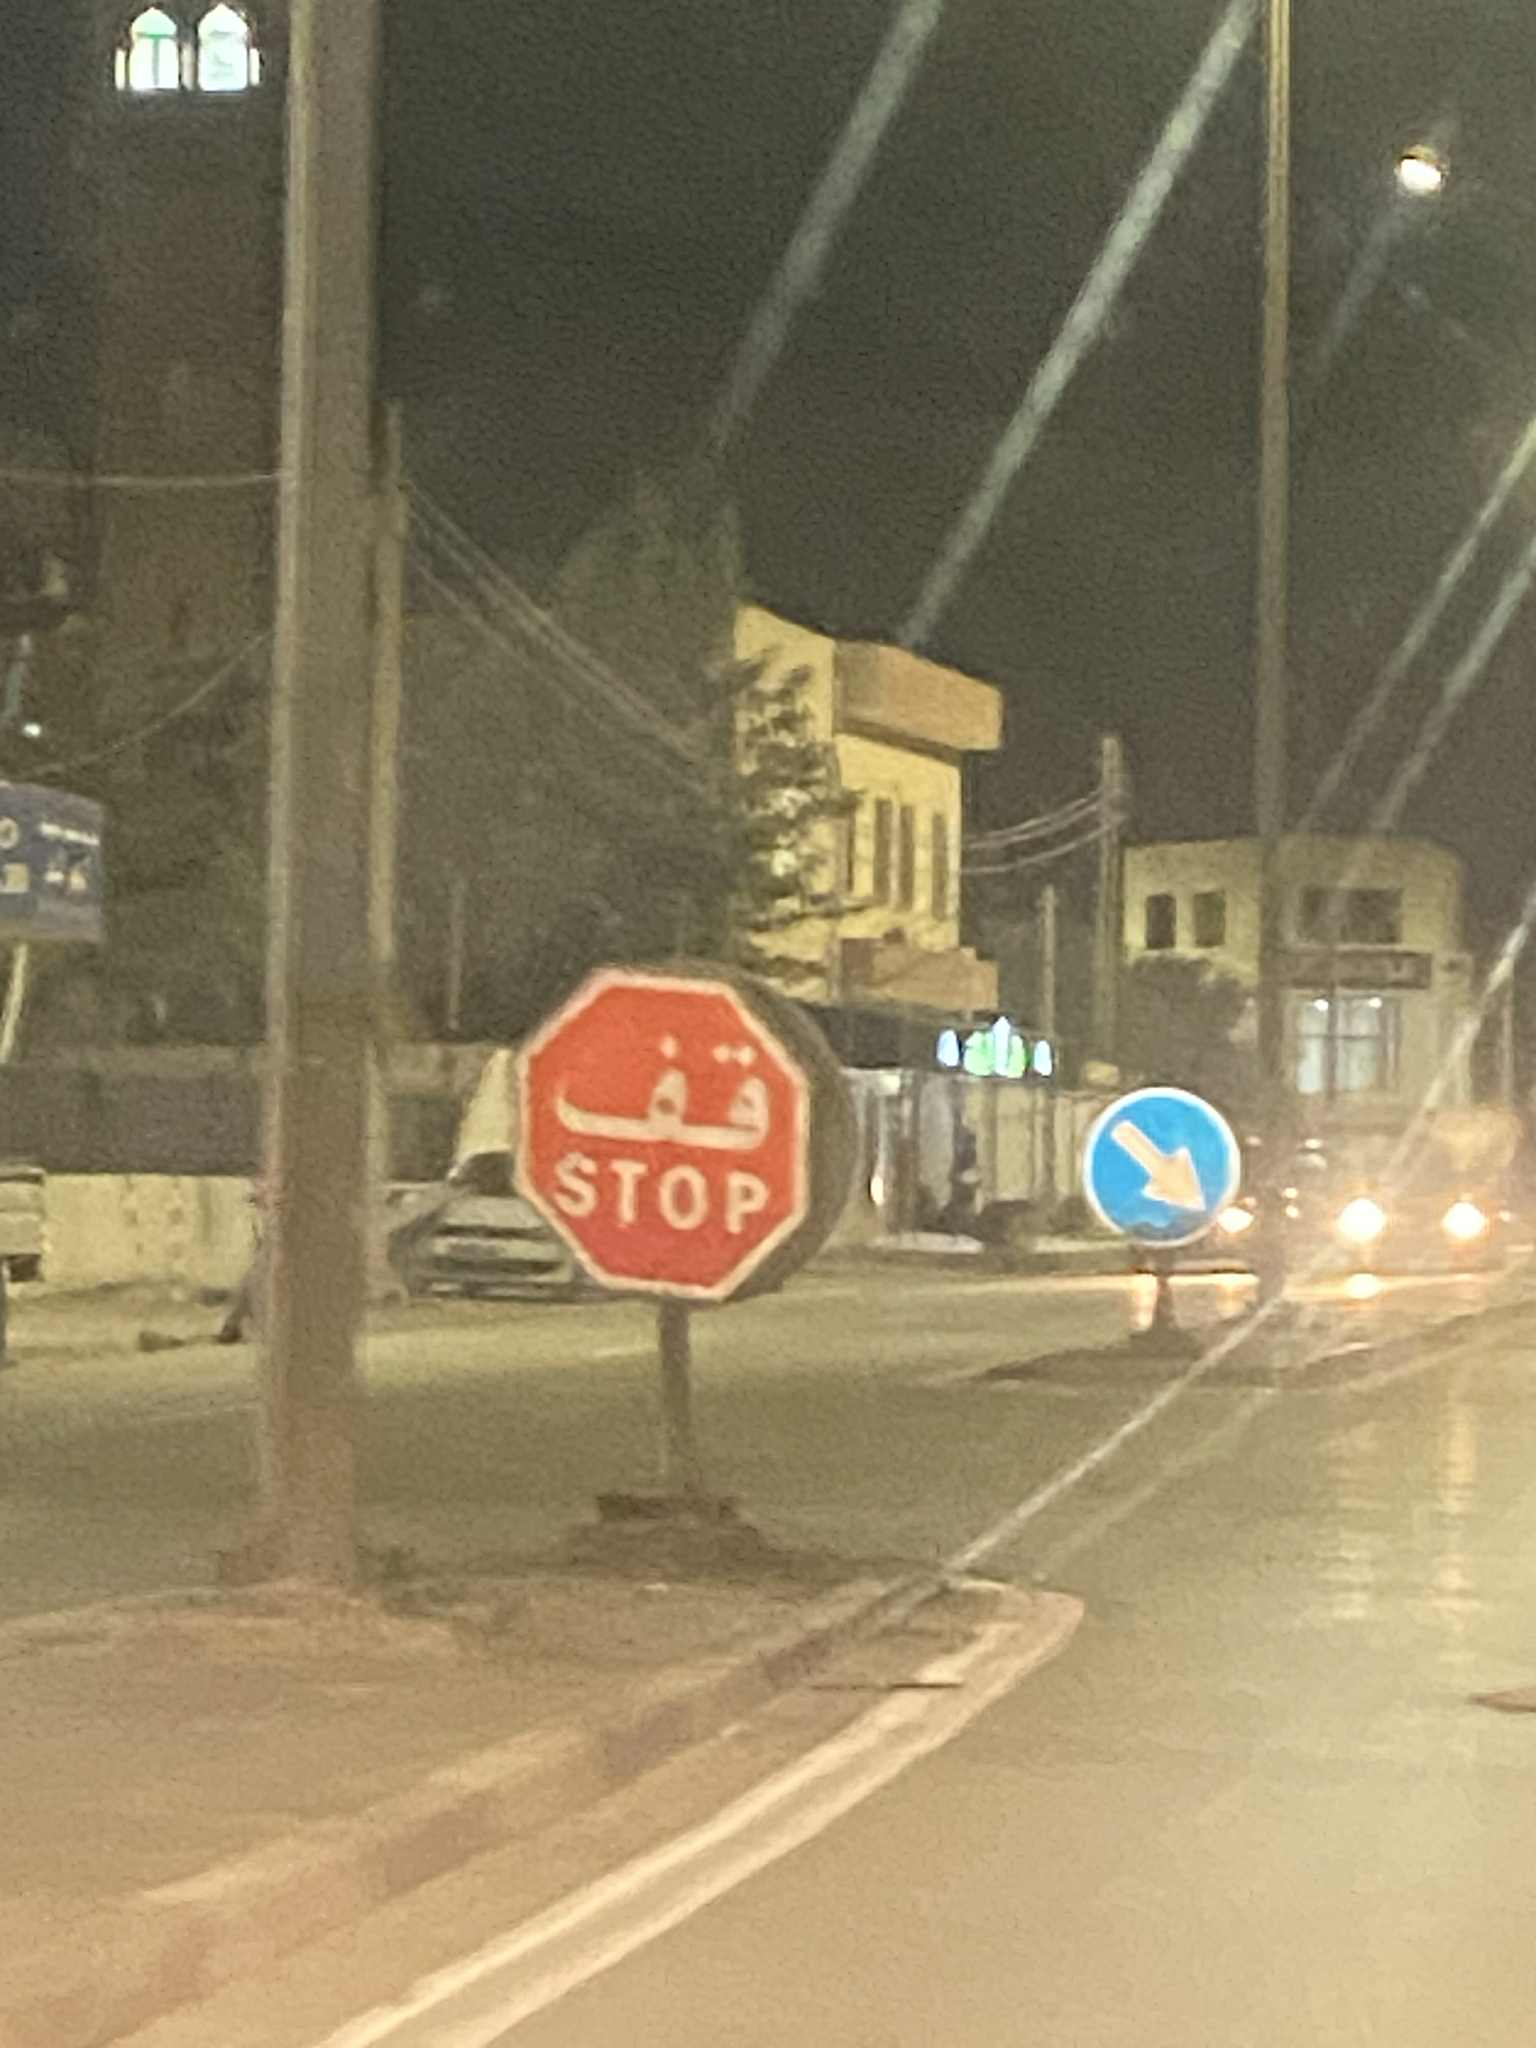Stop: (513, 964, 813, 1303)
